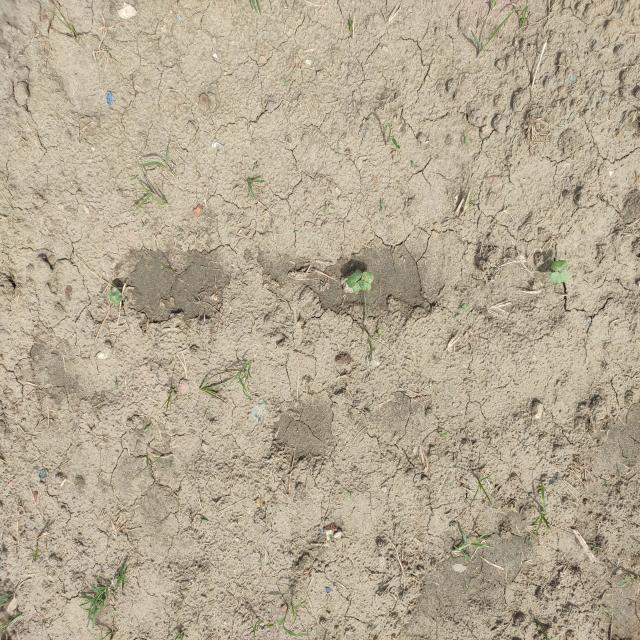seedling: (346, 269, 362, 287), (108, 287, 122, 305), (550, 271, 570, 283), (551, 260, 569, 271), (353, 281, 367, 293), (362, 272, 374, 283), (365, 282, 371, 291)
